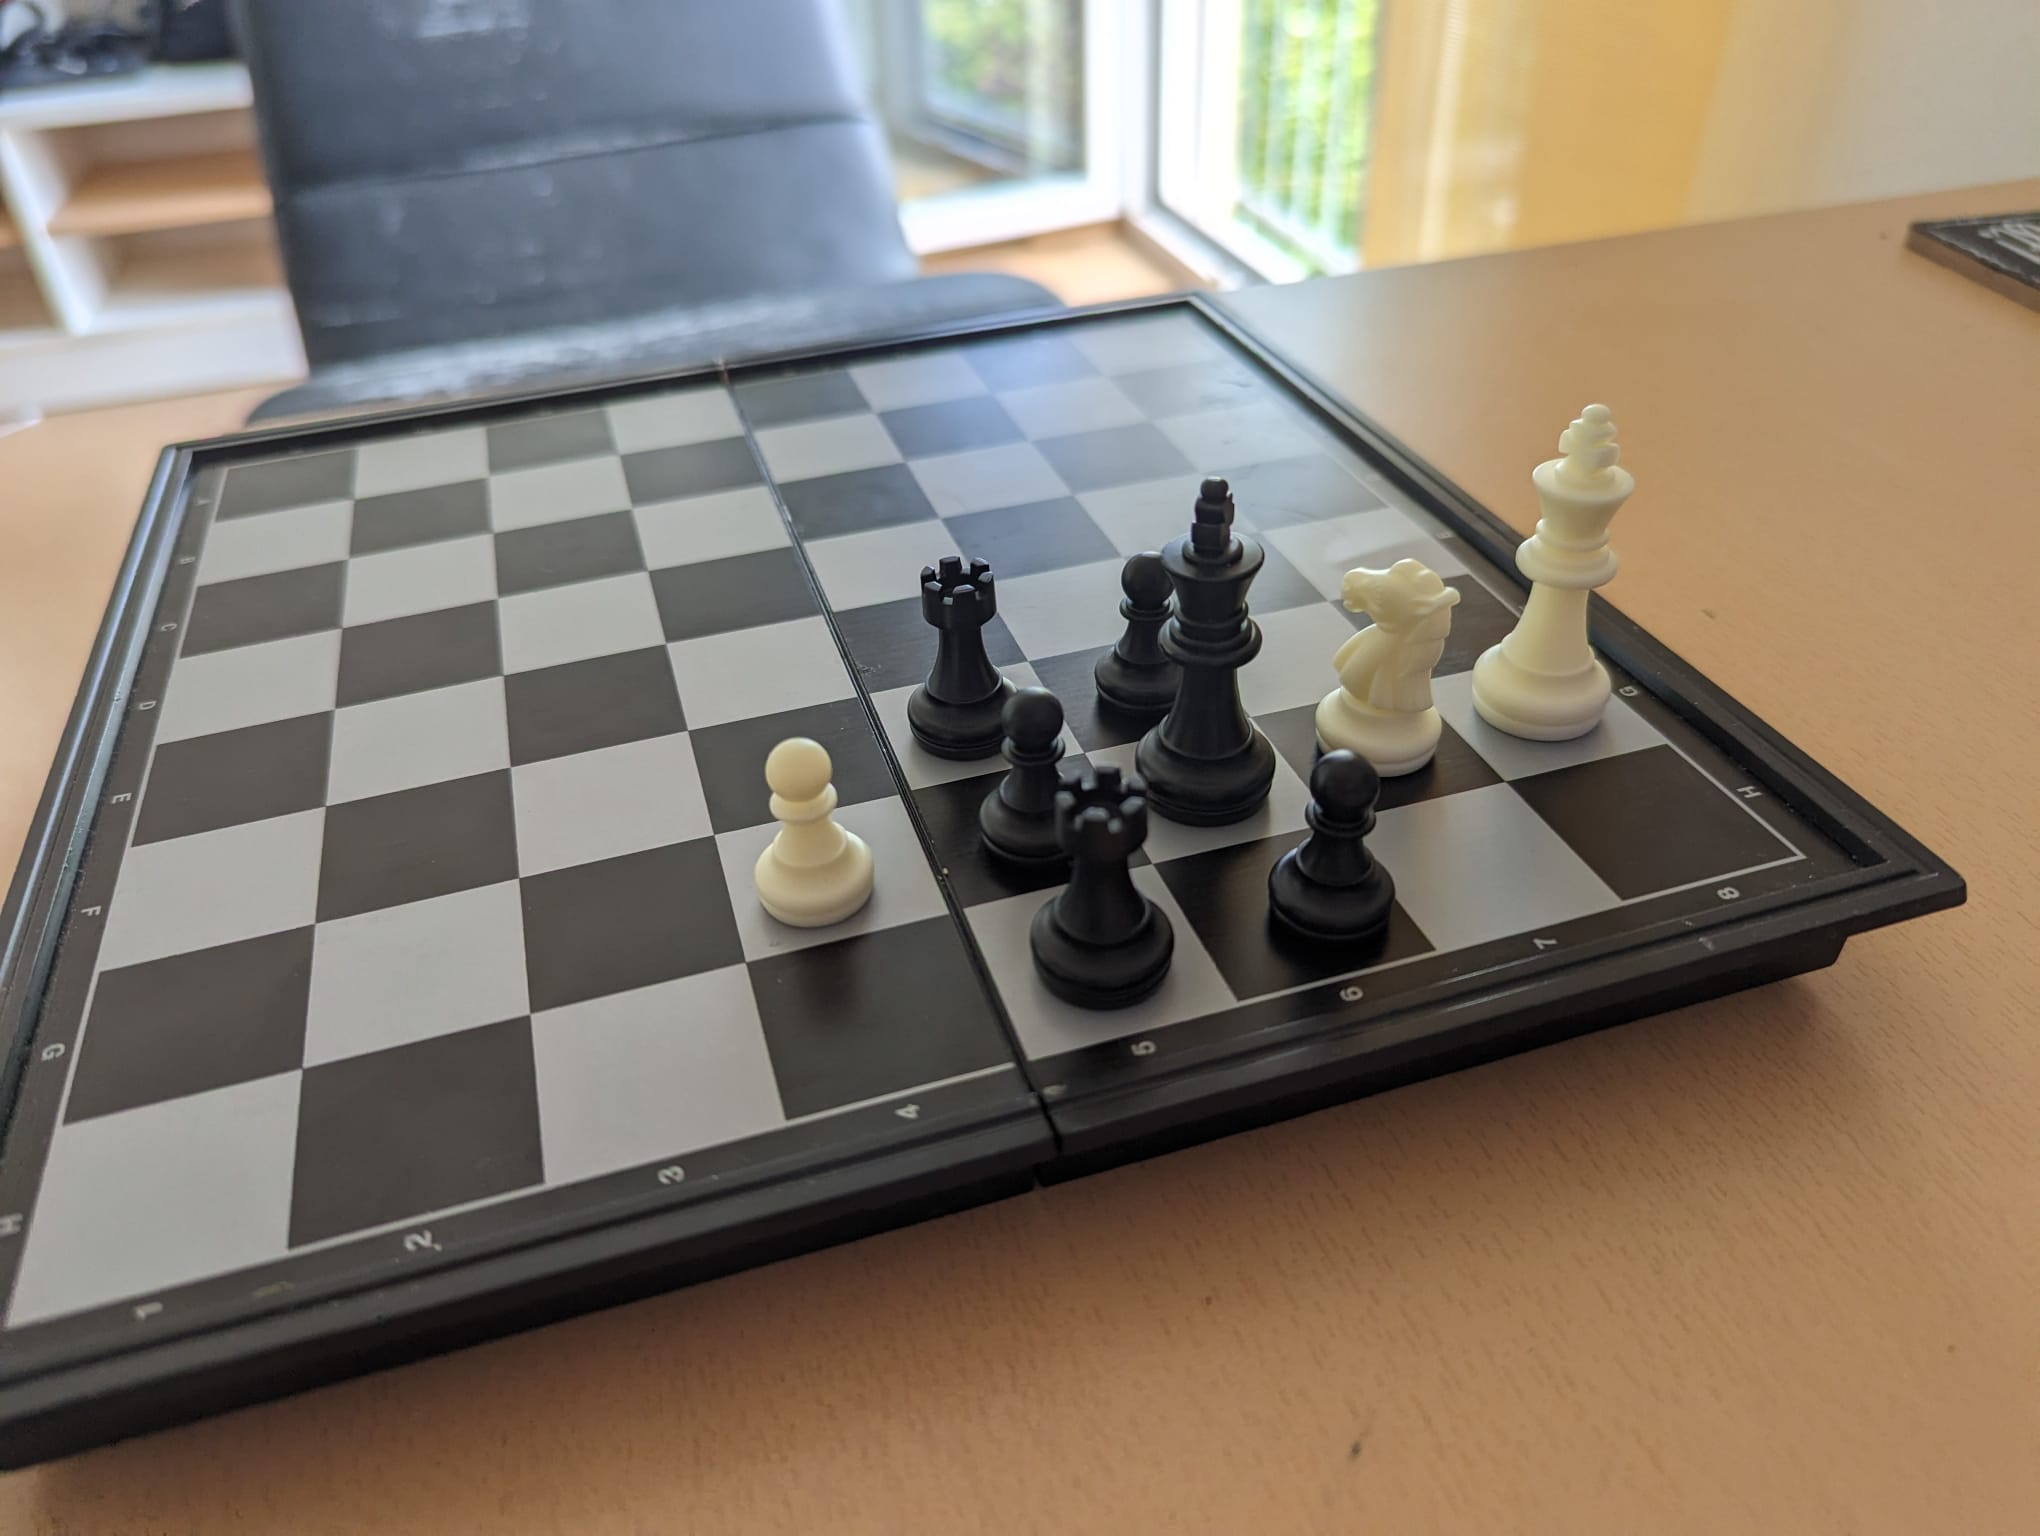BK: (1150, 476, 1274, 813)
BP: (1255, 744, 1403, 957), (984, 687, 1076, 863), (1097, 545, 1179, 697)
BR: (1039, 766, 1174, 1010), (913, 553, 1019, 753)
WK: (1477, 390, 1635, 745)
WN: (1311, 547, 1469, 781)
WP: (742, 734, 876, 933)
